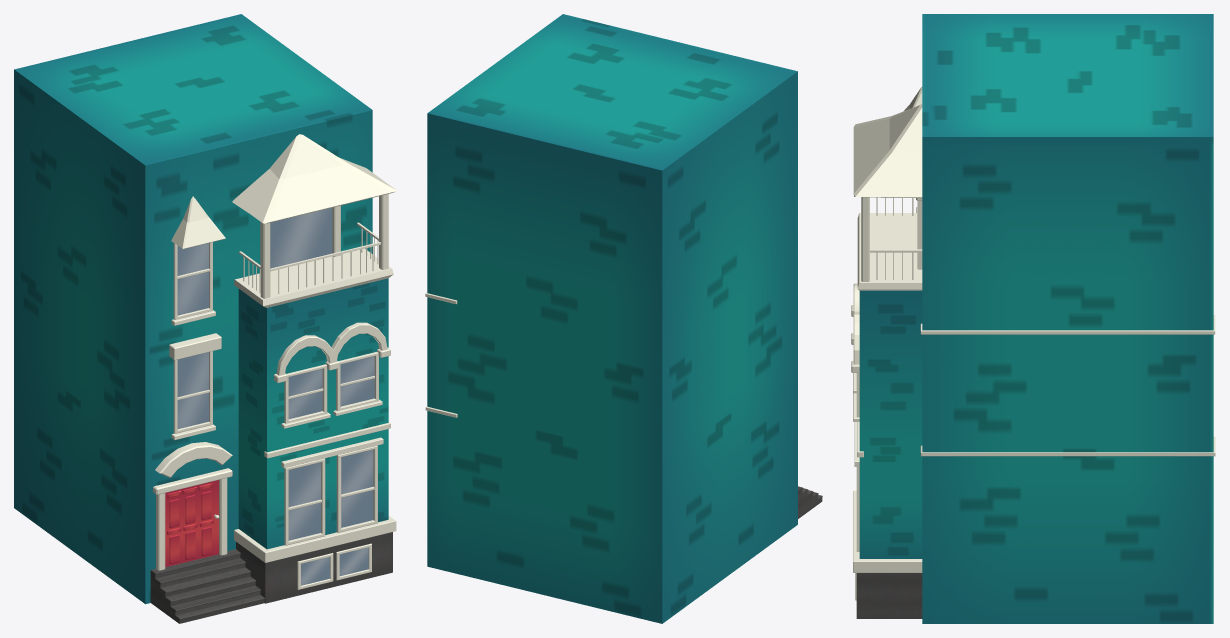
The model's file is house1-1.fbx.
3 renders of one model, left to right at view 1: azimuth 30°, elevation 25°; view 2: azimuth 150°, elevation 25°; view 3: azimuth 270°, elevation 25°, orthographic. The views are drawn at different scales.
Visible parts, largest first — view 1: polySurface198; view 2: polySurface198; view 3: polySurface198.
Boxes of the visible parts, x1,y1,x2,y2 form: polySurface198: (14,14,396,623); polySurface198: (425,14,822,623); polySurface198: (851,14,1215,623).
Bounding box in the file's own units: 5.03 × 9.22 × 6.25.
